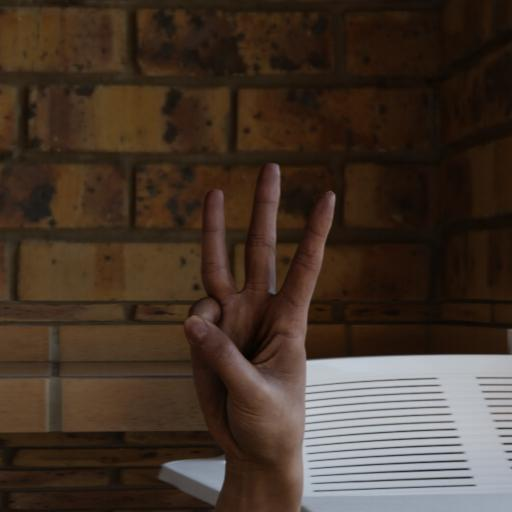W: (161, 155, 352, 510)
